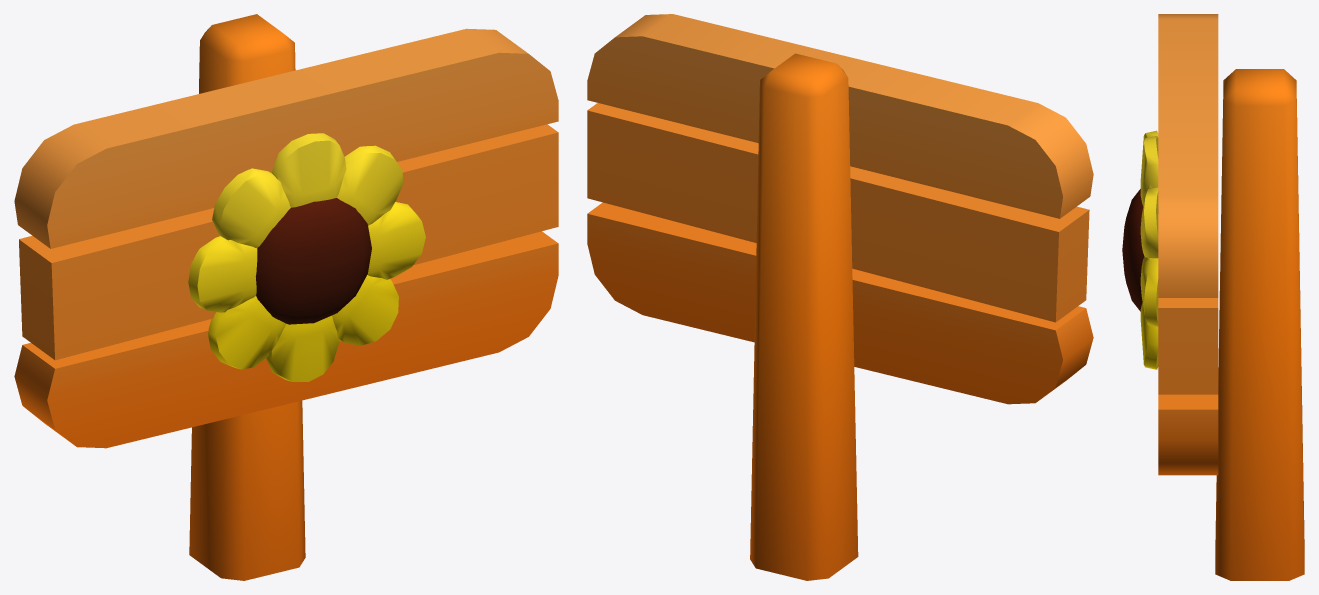
The model's file is Farm_Crop_Sign_Sunflower_01.glb.
3 views of the same model, side by side, from view 1: azimuth 30°, elevation 25°; view 2: azimuth 150°, elevation 25°; view 3: azimuth 270°, elevation 25° (orthographic). The views are drawn at different scales.
Visible parts, largest first — view 1: Farm_Crop_Sign_Sunflower_01; view 2: Farm_Crop_Sign_Sunflower_01; view 3: Farm_Crop_Sign_Sunflower_01.
Boxes of the visible parts, bbox=[...] form: Farm_Crop_Sign_Sunflower_01: bbox=[14, 14, 558, 580]; Farm_Crop_Sign_Sunflower_01: bbox=[587, 14, 1093, 580]; Farm_Crop_Sign_Sunflower_01: bbox=[1122, 14, 1304, 580].
Size of the model in its own units: 0.9011 by 0.888 by 0.3038.
Materials: 1 (1 with a texture image).
